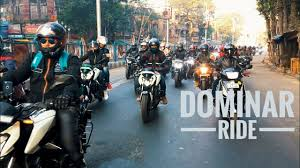helmet: (35, 21, 70, 58)
